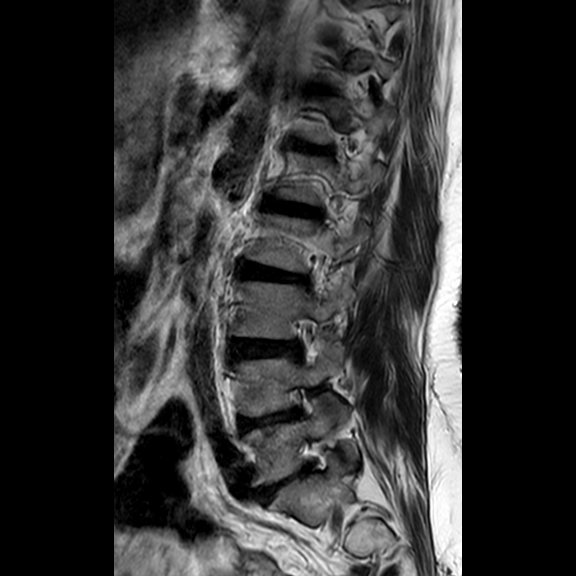LFS0: (277, 305, 333, 377)
LFS3: (280, 377, 332, 435)
